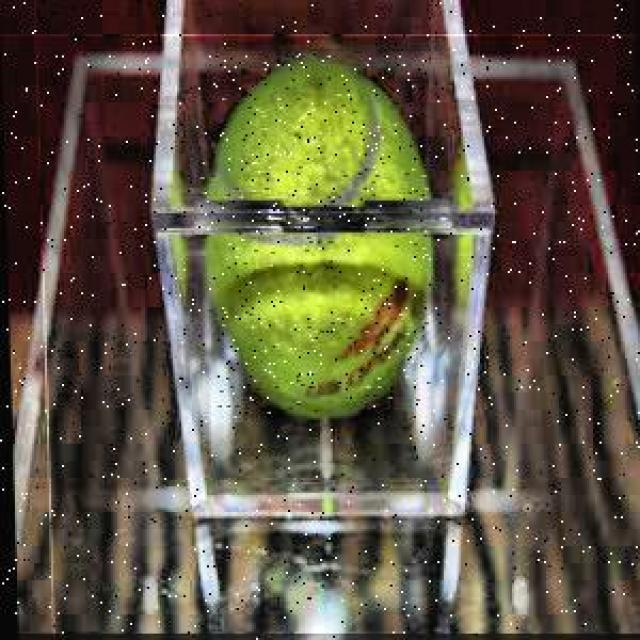tennis-ball: (197, 56, 434, 420)
